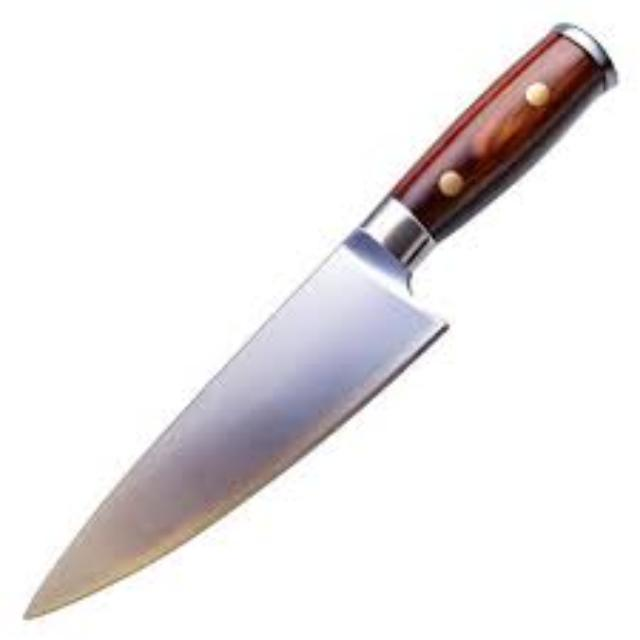Knife: (20, 20, 618, 620)
